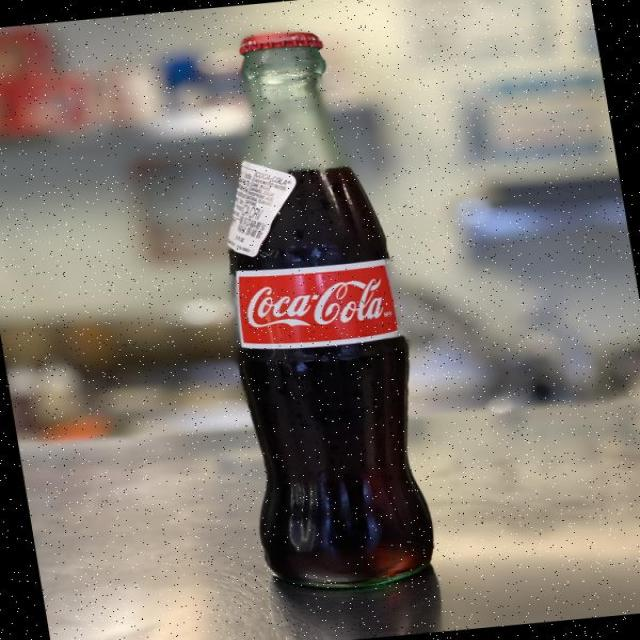coca-cola: (178, 18, 448, 592)
